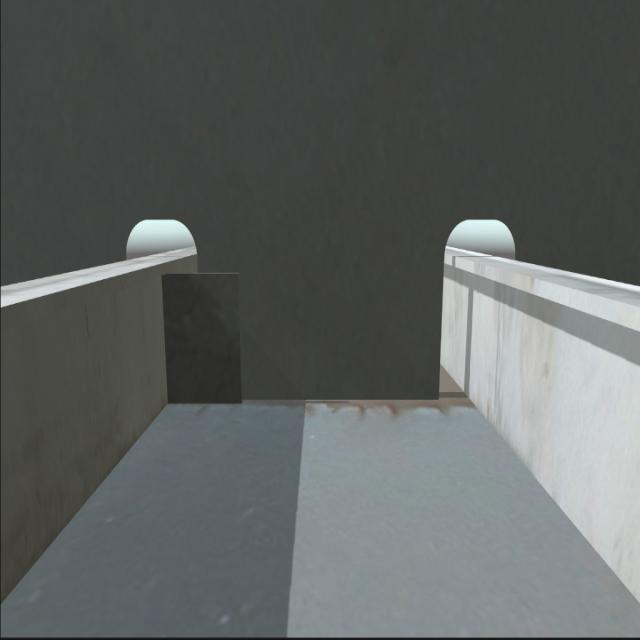fillet_yong_jeop_jang: (168, 389, 439, 406)
longi_yong_jeop_jang: (156, 272, 177, 407)
plate_CP01: (162, 272, 252, 412)
